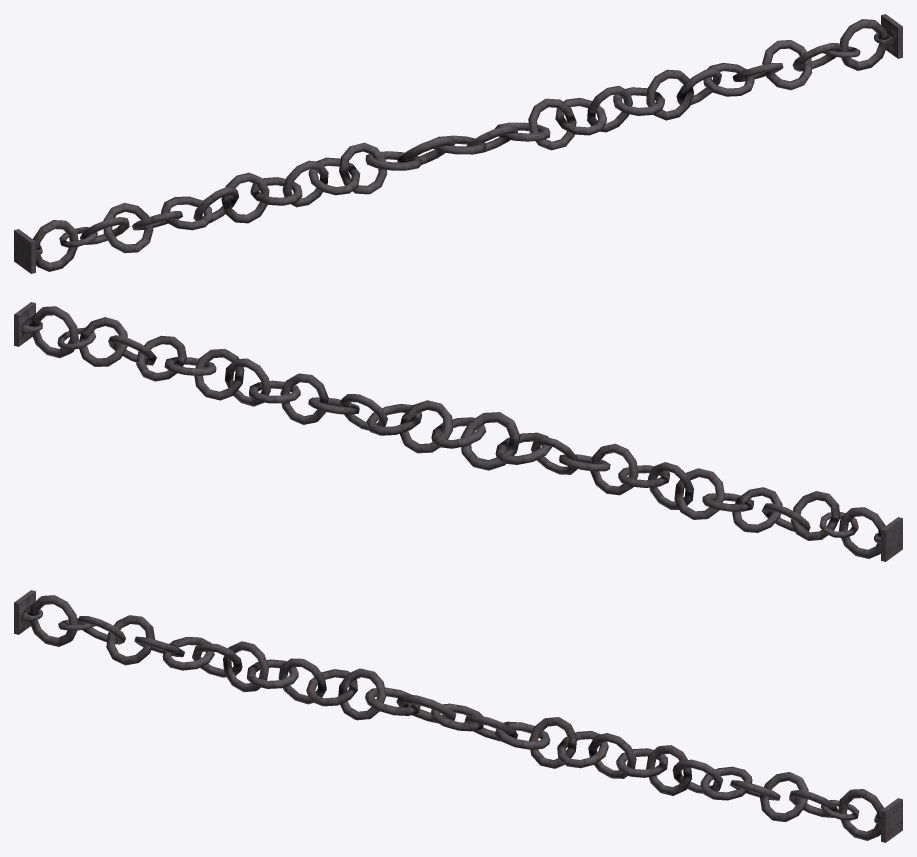
Rendered from Castle Wall Ring Chain 08b.fbx.
3 renders of one model, top to bottom at view 1: azimuth 30°, elevation 25°; view 2: azimuth 150°, elevation 25°; view 3: azimuth 330°, elevation 25°, orthographic.
Visible parts, largest first — view 1: Cube; view 2: Cube; view 3: Cube.
Boxes of the visible parts, bbox=[...] form: Cube: bbox=[14, 14, 902, 273]; Cube: bbox=[14, 302, 902, 561]; Cube: bbox=[14, 590, 902, 842].
Size of the model in its own units: 360 by 20.8 by 20.83.
